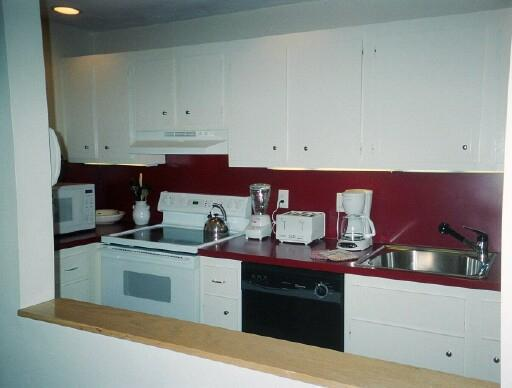Electrodomestico: (103, 234, 203, 373), (246, 258, 343, 349)
Lavaplatos: (368, 234, 494, 281)
